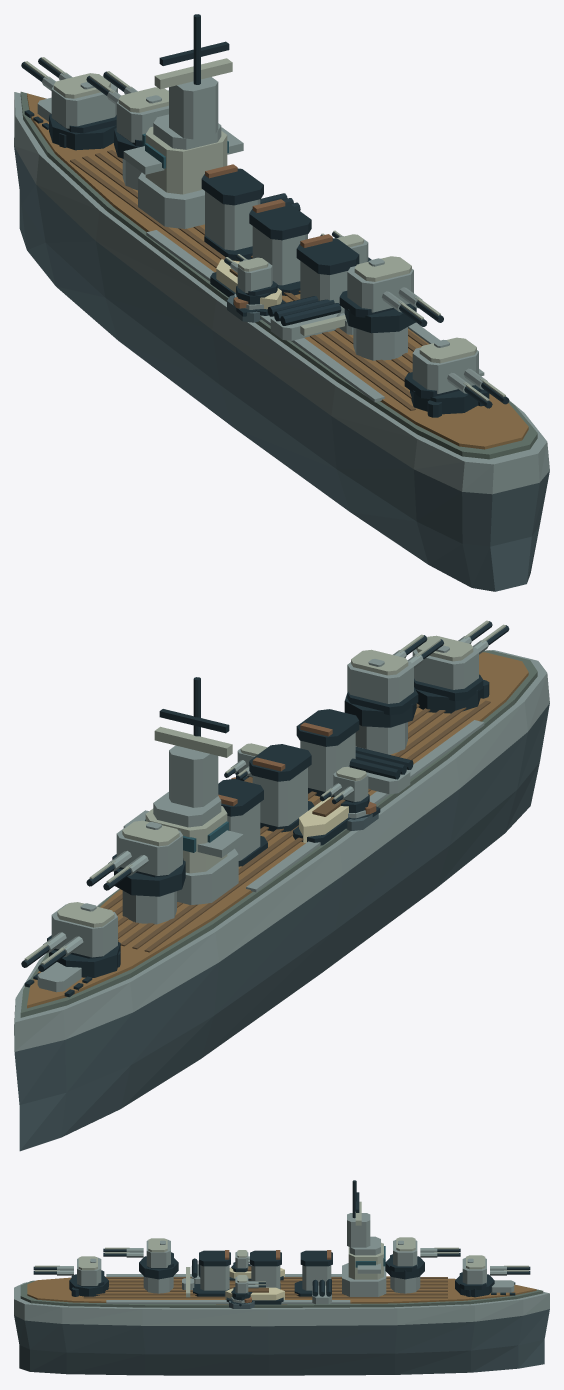
File: historic-australia.glb
3 views of the same model, one above another, from view 1: azimuth 30°, elevation 25°; view 2: azimuth 150°, elevation 25°; view 3: azimuth 270°, elevation 25° (orthographic). The views are drawn at different scales.
Visible parts, largest first — view 1: historic-australia-historic-australia-geometry, historic-australia-part_bridge.058-geometry, historic-australia-turret_main_2.042-geometry, historic-australia-turret_main_3.024-geometry, historic-australia-turret_main_0.049-geometry, historic-australia-historic_funnel_0.060-geometry, historic-australia-historic_funnel_1.033-geometry, historic-australia-historic_funnel_2-geometry, historic-australia-turret_main_1.047-geometry, historic-australia-torpedo_bank_0.018-geometry, historic-australia-turret_aa_aa-port.061-geometry; view 2: historic-australia-historic-australia-geometry, historic-australia-part_bridge.058-geometry, historic-australia-turret_main_2.042-geometry, historic-australia-turret_main_1.047-geometry, historic-australia-turret_main_3.024-geometry, historic-australia-turret_main_0.049-geometry, historic-australia-historic_funnel_1.033-geometry, historic-australia-historic_funnel_2-geometry, historic-australia-historic_funnel_0.060-geometry, historic-australia-torpedo_bank_0.018-geometry, historic-australia-turret_aa_aa-port.061-geometry, historic-australia-turret_aa_aa-starboard.058-geometry; view 3: historic-australia-historic-australia-geometry, historic-australia-part_bridge.058-geometry, historic-australia-turret_main_1.047-geometry, historic-australia-turret_main_2.042-geometry, historic-australia-turret_main_0.049-geometry, historic-australia-turret_main_3.024-geometry, historic-australia-historic_funnel_2-geometry, historic-australia-historic_funnel_0.060-geometry, historic-australia-historic_funnel_1.033-geometry, historic-australia-turret_aa_aa-starboard.058-geometry, historic-australia-torpedo_bank_1.015-geometry, historic-australia-turret_aa_aa-port.061-geometry.
Part boxes in pixels (x1,y1,x2,y2): historic-australia-historic-australia-geometry: (14, 91, 549, 591); historic-australia-part_bridge.058-geometry: (123, 14, 243, 228); historic-australia-turret_main_2.042-geometry: (339, 256, 443, 333); historic-australia-turret_main_3.024-geometry: (404, 337, 509, 414); historic-australia-turret_main_0.049-geometry: (21, 57, 117, 150); historic-australia-historic_funnel_0.060-geometry: (201, 164, 263, 260); historic-australia-historic_funnel_1.033-geometry: (249, 199, 311, 295); historic-australia-historic_funnel_2-geometry: (296, 234, 359, 330); historic-australia-turret_main_1.047-geometry: (86, 71, 168, 158); historic-australia-torpedo_bank_0.018-geometry: (267, 296, 341, 340); historic-australia-turret_aa_aa-port.061-geometry: (224, 254, 277, 304); historic-australia-historic-australia-geometry: (14, 650, 549, 1151); historic-australia-part_bridge.058-geometry: (123, 677, 243, 904); historic-australia-turret_main_2.042-geometry: (344, 634, 443, 727); historic-australia-turret_main_1.047-geometry: (86, 820, 185, 896); historic-australia-turret_main_3.024-geometry: (412, 620, 509, 713); historic-australia-turret_main_0.049-geometry: (21, 902, 120, 977); historic-australia-historic_funnel_1.033-geometry: (249, 744, 314, 832); historic-australia-historic_funnel_2-geometry: (296, 709, 359, 796); historic-australia-historic_funnel_0.060-geometry: (218, 779, 267, 866); historic-australia-torpedo_bank_0.018-geometry: (349, 747, 413, 794); historic-australia-turret_aa_aa-port.061-geometry: (320, 766, 369, 813); historic-australia-turret_aa_aa-starboard.058-geometry: (224, 743, 267, 780); historic-australia-historic-australia-geometry: (14, 1266, 549, 1375); historic-australia-part_bridge.058-geometry: (342, 1180, 386, 1296); historic-australia-turret_main_1.047-geometry: (385, 1237, 460, 1279); historic-australia-turret_main_2.042-geometry: (103, 1238, 178, 1279); historic-australia-turret_main_0.049-geometry: (455, 1255, 530, 1297); historic-australia-turret_main_3.024-geometry: (33, 1256, 108, 1296); historic-australia-historic_funnel_2-geometry: (193, 1250, 230, 1296); historic-australia-historic_funnel_0.060-geometry: (294, 1250, 332, 1296); historic-australia-historic_funnel_1.033-geometry: (249, 1250, 281, 1289); historic-australia-turret_aa_aa-starboard.058-geometry: (231, 1275, 265, 1300); historic-australia-torpedo_bank_1.015-geometry: (312, 1279, 331, 1304); historic-australia-turret_aa_aa-port.061-geometry: (231, 1250, 250, 1272).
Size of the model in its own units: 0.6888 by 1.63 by 4.32.
